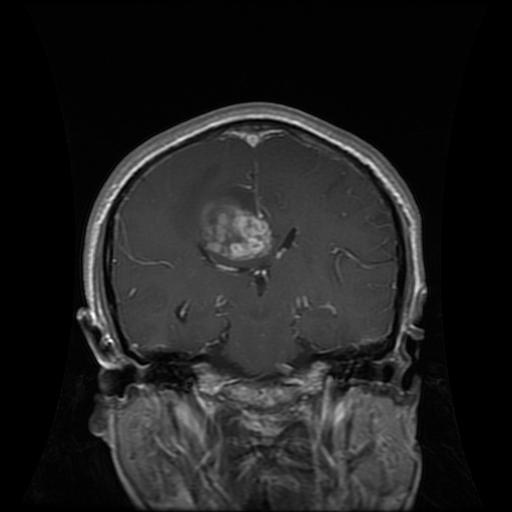Gliomia_tumour: (189, 186, 275, 295)
